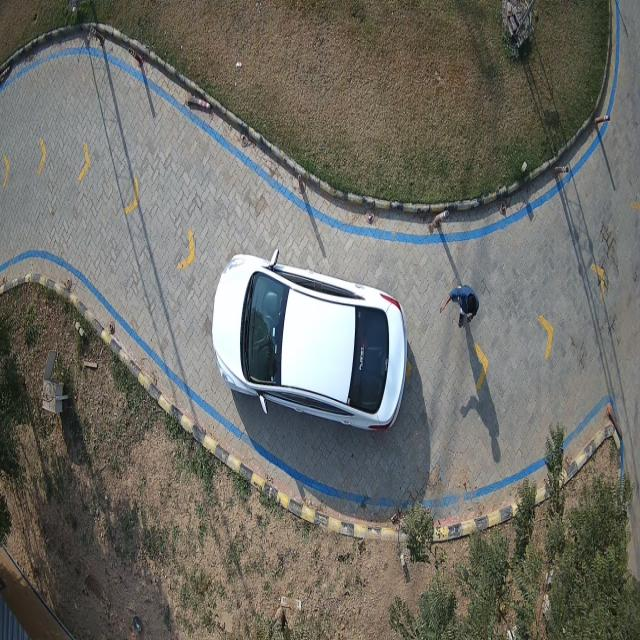car: (211, 255, 407, 432)
